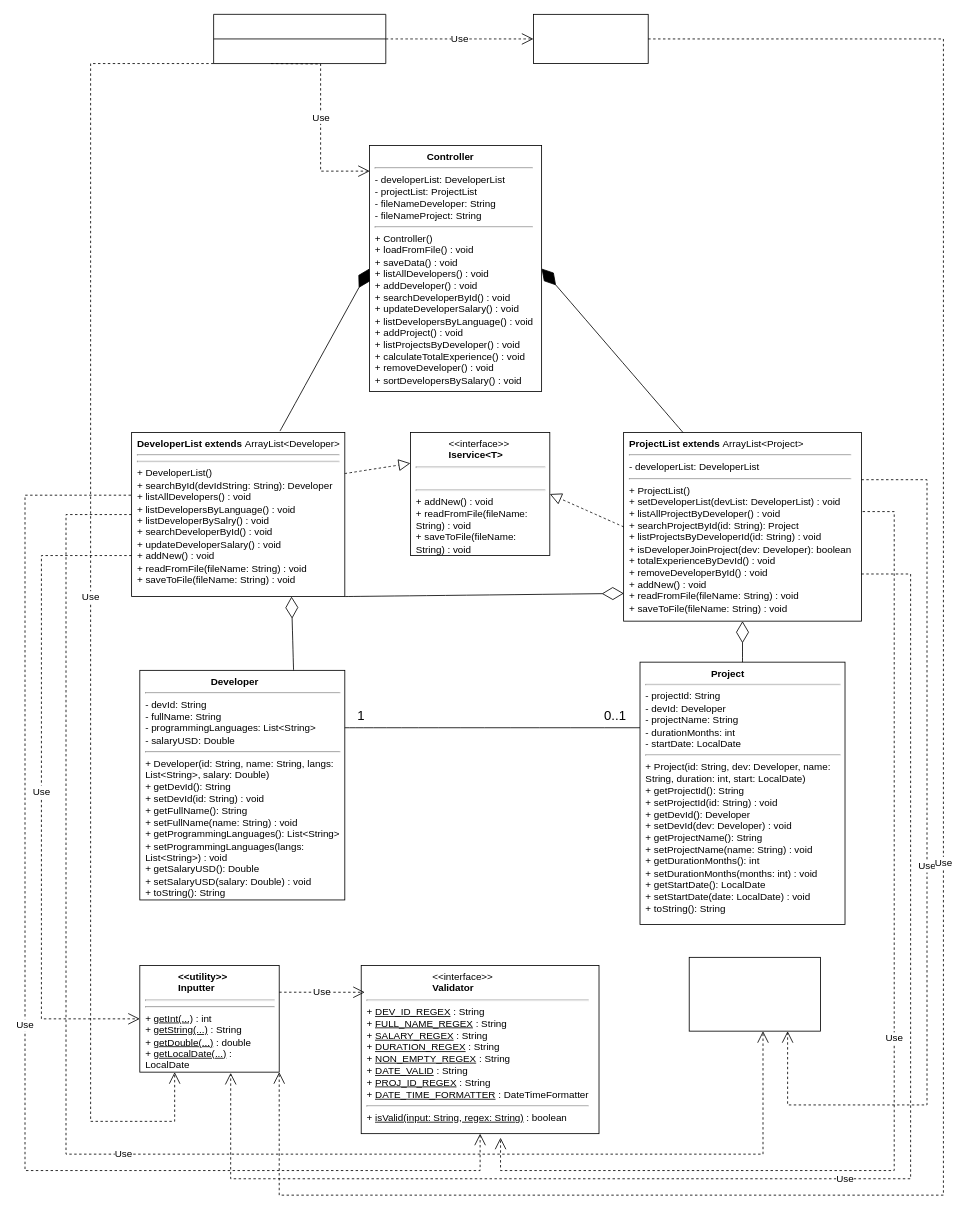
Some shapes in this 969 by 1221 pixel diagram are drawn without their labels. Each missing label, with the centre of its shape:
<<utility>> FileUtils + readFromFile(...) : List + writeToFile(...) : void: point 754,994
Main + static main(args: String[]) : void: point 299,39
Menu + displayMenu() : void: point 590,39
